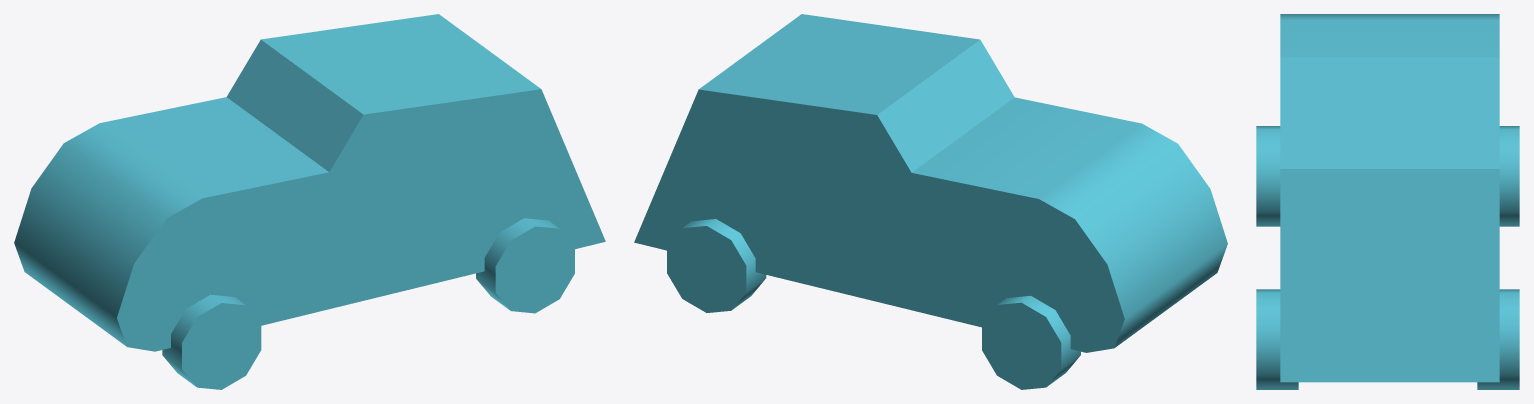
The model's file is Auto 2.fbx.
3 views of the same model, side by side, from view 1: azimuth 30°, elevation 25°; view 2: azimuth 150°, elevation 25°; view 3: azimuth 270°, elevation 25° (orthographic). The views are drawn at different scales.
Parts seen in each view (by area): view 1: Auto_2; view 2: Auto_2; view 3: Auto_2.
Boxes of the visible parts, left/top/right/bottom form: Auto_2: left=14, top=14, right=605, bottom=389; Auto_2: left=634, top=14, right=1227, bottom=389; Auto_2: left=1256, top=14, right=1519, bottom=389.
Bounding box in the file's own units: 0.0132 × 0.00593 × 0.00578.
